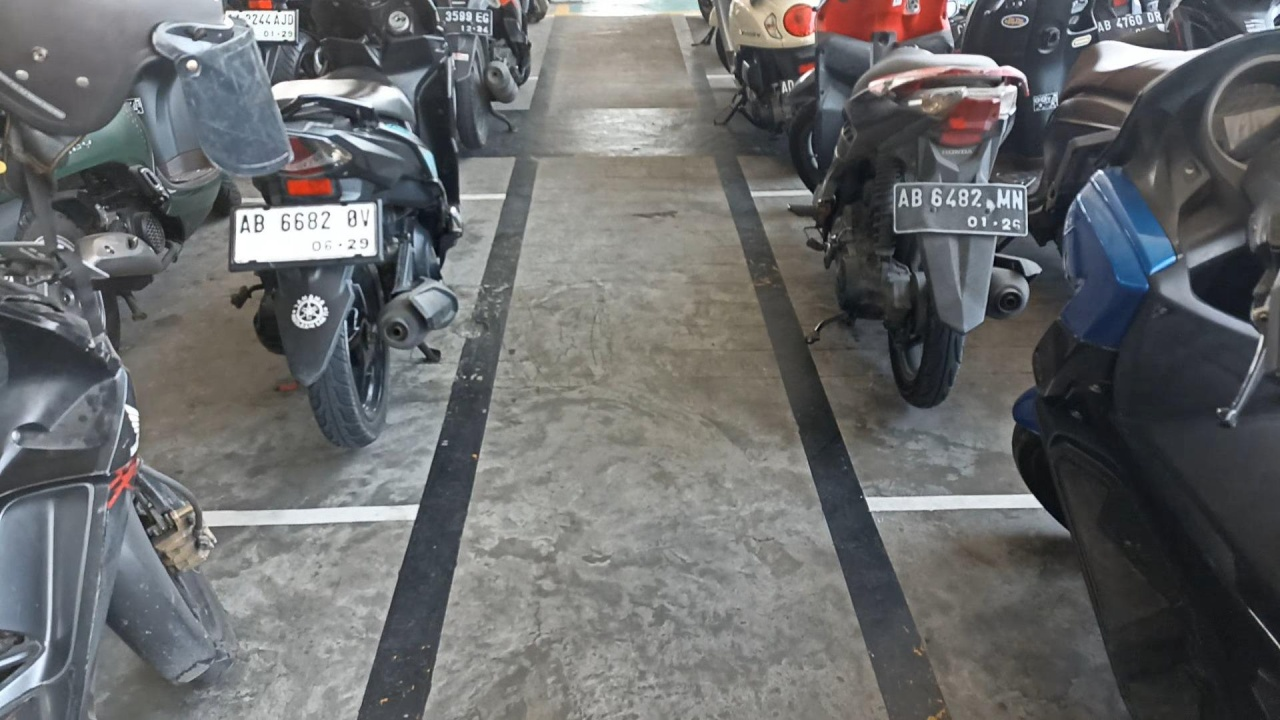plate: (233, 201, 379, 265), (895, 182, 1027, 235)
